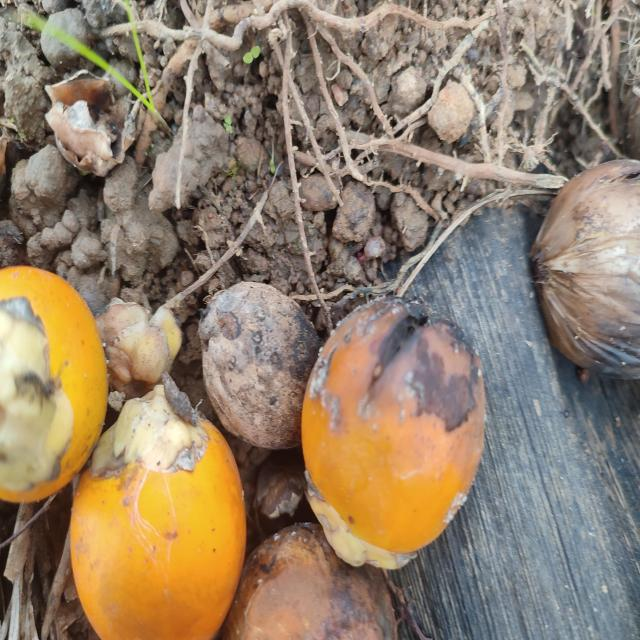damaged: (300, 300, 489, 573), (529, 158, 640, 383), (196, 281, 325, 455)
good: (66, 387, 248, 640), (0, 266, 109, 508)
